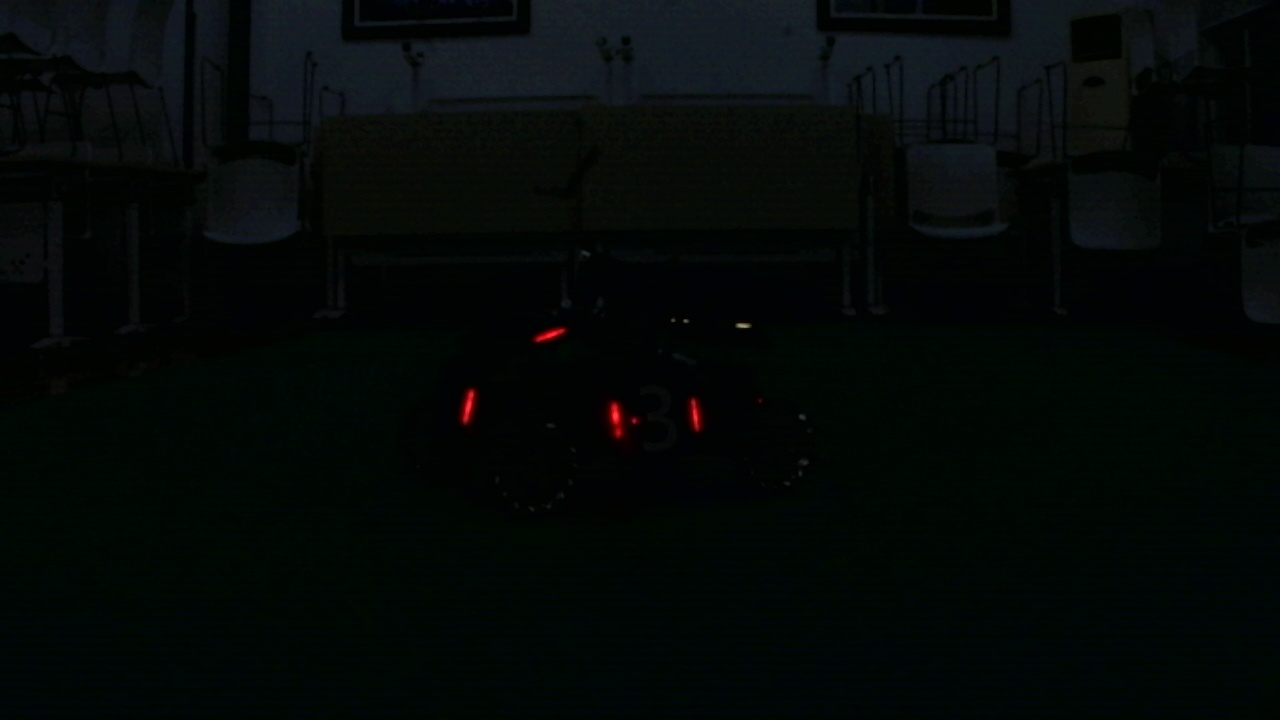lamp: (459, 383, 477, 433), (605, 396, 624, 441), (688, 385, 703, 436)
pair1: (605, 397, 702, 434)
